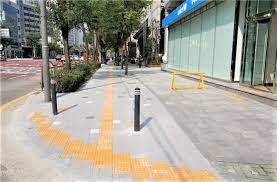guide_blocks: (114, 154, 172, 182), (94, 102, 113, 169), (57, 133, 94, 162), (172, 164, 217, 182), (32, 113, 57, 142), (105, 66, 111, 102), (128, 119, 141, 126)
